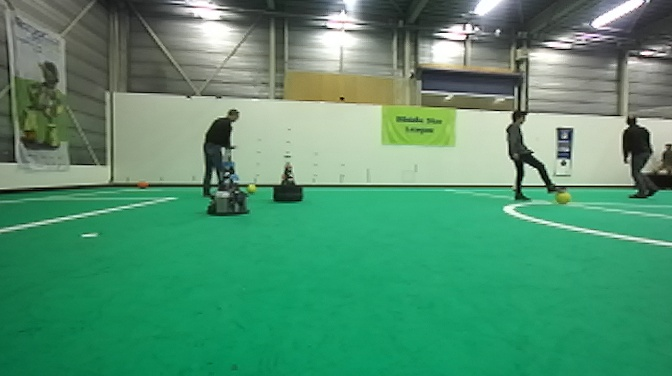ball: (555, 189, 571, 205), (135, 177, 149, 190), (245, 181, 259, 194), (509, 181, 521, 194)
human: (504, 107, 568, 202), (200, 107, 241, 199), (619, 111, 659, 200)
robot: (205, 143, 252, 217), (272, 154, 303, 204)
